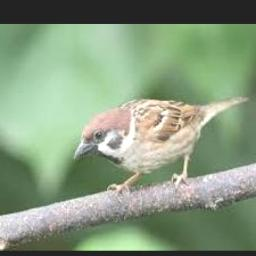Sparrow: (74, 96, 250, 194)
